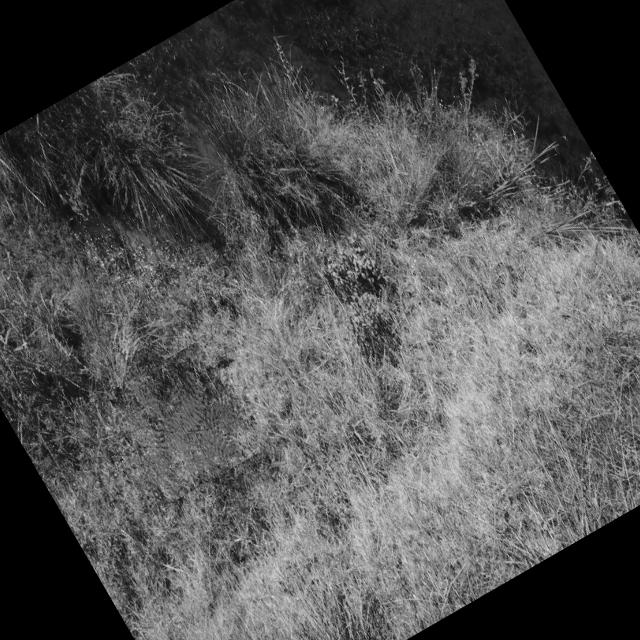Mysore-Thorn-Weed: (106, 341, 262, 504)
